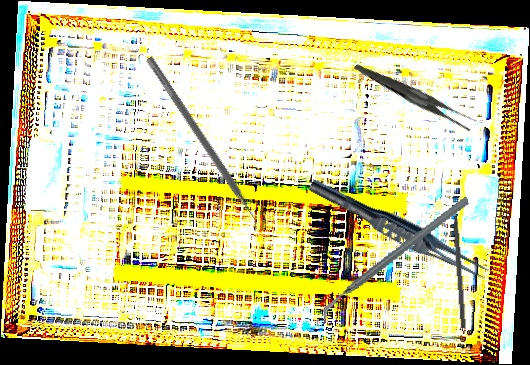Chopper: (301, 195, 489, 324)
Dressing Forceps: (353, 32, 479, 158)
Hook Surgical: (450, 194, 468, 329)
Spatula Surgical: (138, 55, 267, 236)
Tissue Forceps: (304, 174, 494, 286)
